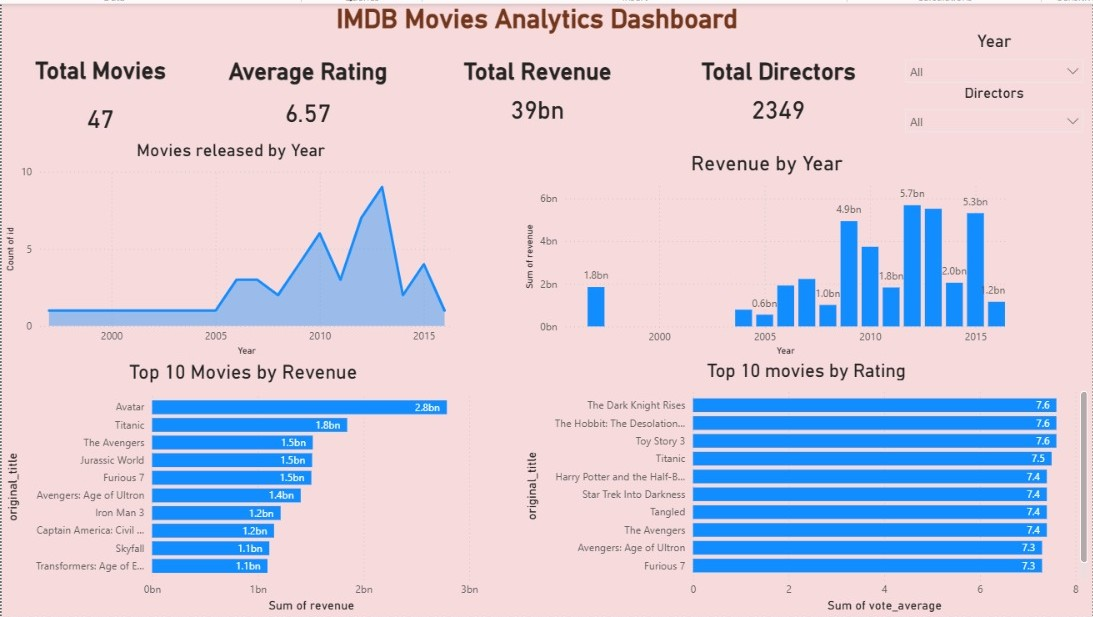

What the dashboard file says about the page in this screenshot:
{"tool":"powerbi","page":{"name":"Overview Dashboard","canvas":[1280,720],"ordinal":0},"visuals":[{"type":"card","title":"Total Movies","fields":{"Values":["directors.Total movies"]},"box":[0,62,232.3,111.1],"z":0},{"type":"card","title":"Average Rating","fields":{"Values":["directors.Avg Rating"]},"box":[238.1,63.5,242.4,96.7],"z":1000},{"type":"card","title":"Total Revenue","fields":{"Values":["directors.Total Revenue"]},"box":[496.3,63.5,265.5,88],"z":2000},{"type":"card","title":"Total  Directors","fields":{"Values":["directors.Total directors"]},"box":[797.8,63.5,229.4,88],"z":3000},{"type":"areaChart","title":"Movies released by Year","fields":{"Category":["movies.release_date.Variation.Date Hierarchy.Year"],"Y":["CountNonNull(movies.id)"]},"box":[0,160.1,538.2,258.3],"z":4000},{"type":"clusteredColumnChart","title":"Revenue by Year","fields":{"Category":["movies.release_date.Variation.Date Hierarchy.Year"],"Y":["Sum(movies.revenue)"]},"box":[608.8,173.1,578.5,245.3],"z":5000},{"type":"barChart","title":"Top 10 Movies by Revenue","fields":{"Category":["movies.original_title"],"Y":["Sum(movies.revenue)"]},"box":[0,418.4,567,301.5],"z":6000},{"type":"barChart","title":"Top 10 movies by Rating","fields":{"Category":["movies.original_title"],"Y":["Sum(movies.vote_average)"]},"box":[608.8,418.4,670.9,301.5],"z":7000},{"type":"slicer","title":"Directors","fields":{"Values":["directors.name"]},"box":[1050.3,93.8,229.4,66.4],"z":7001},{"type":"slicer","title":"Year","fields":{"Values":["movies.release_date.Variation.Date Hierarchy.Year"]},"box":[1050.3,31.7,229.4,62],"z":7002},{"type":"textbox","title":"IMDB Movies Analytics Dashboard","box":[298.4,0,660.3,66],"z":7003}]}

Visuals, with their boxes in screenshot pixels (x1, y1, x2, y2), scaled from the page's 1280x720 canvas onto the 1093x617 screenshot:
"Total Movies" card: rect(0, 53, 198, 148)
"Average Rating" card: rect(203, 54, 410, 137)
"Total Revenue" card: rect(424, 54, 651, 130)
"Total  Directors" card: rect(681, 54, 877, 130)
"Movies released by Year" areaChart: rect(0, 137, 460, 359)
"Revenue by Year" clusteredColumnChart: rect(520, 148, 1014, 359)
"Top 10 Movies by Revenue" barChart: rect(0, 359, 484, 616)
"Top 10 movies by Rating" barChart: rect(520, 359, 1092, 616)
"Directors" slicer: rect(897, 80, 1092, 137)
"Year" slicer: rect(897, 27, 1092, 80)
"IMDB Movies Analytics Dashboard" textbox: rect(255, 0, 819, 57)
